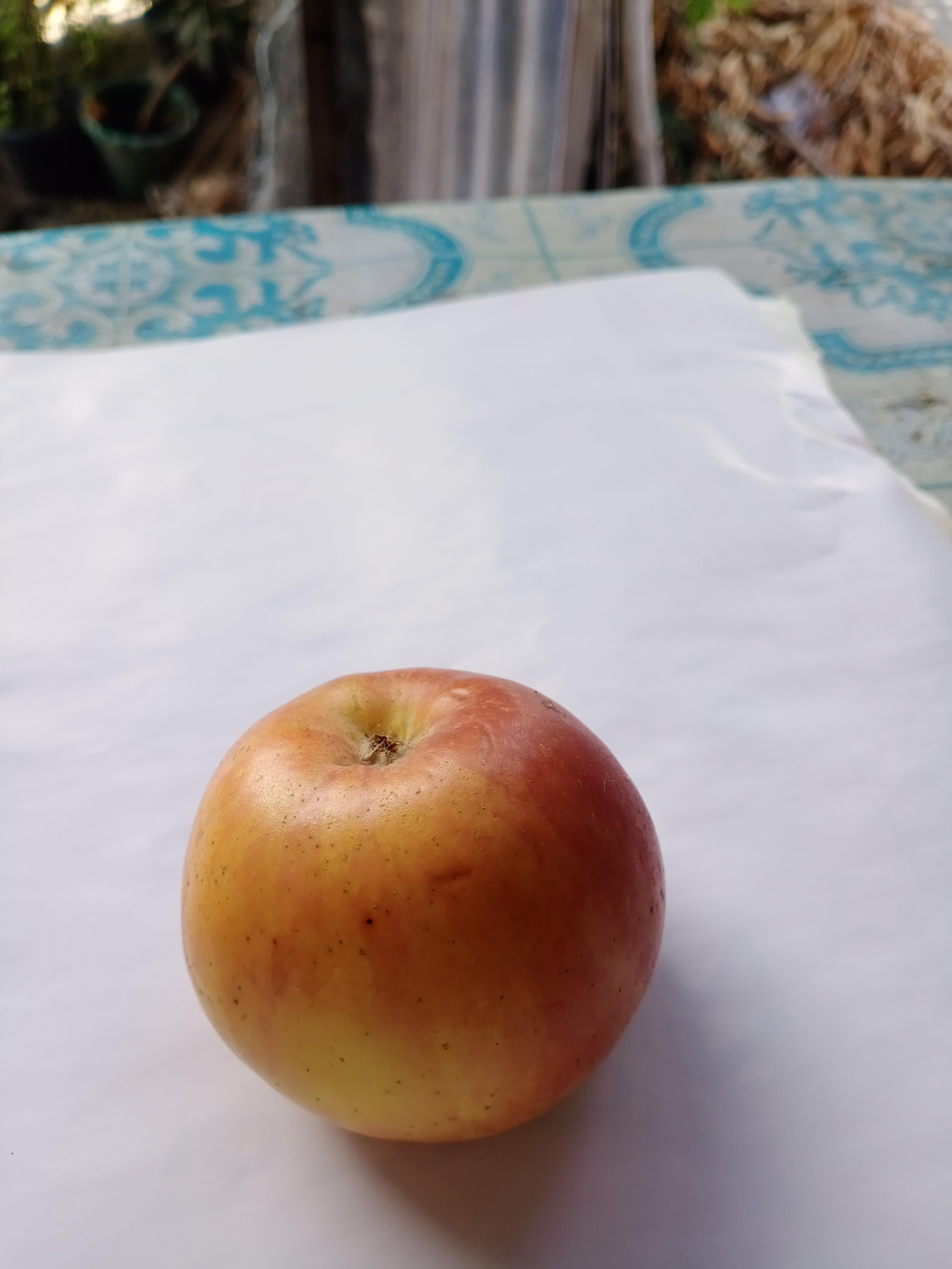Apple Ripe: (171, 650, 694, 1179)
